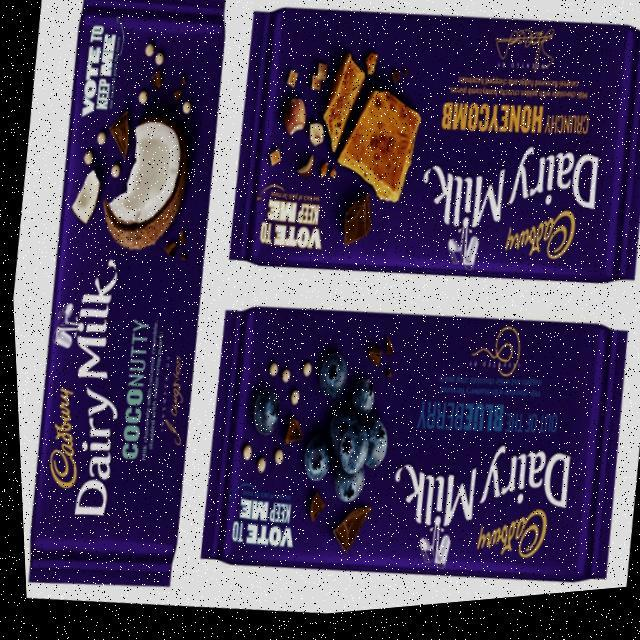cadbury_chocolate: (23, 15, 207, 578), (210, 328, 623, 568), (255, 28, 638, 265)
